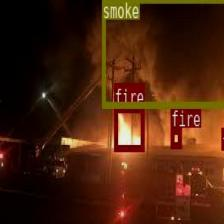fire: (114, 105, 144, 150), (170, 128, 181, 147), (221, 128, 224, 146)
smoke: (101, 0, 224, 106)
